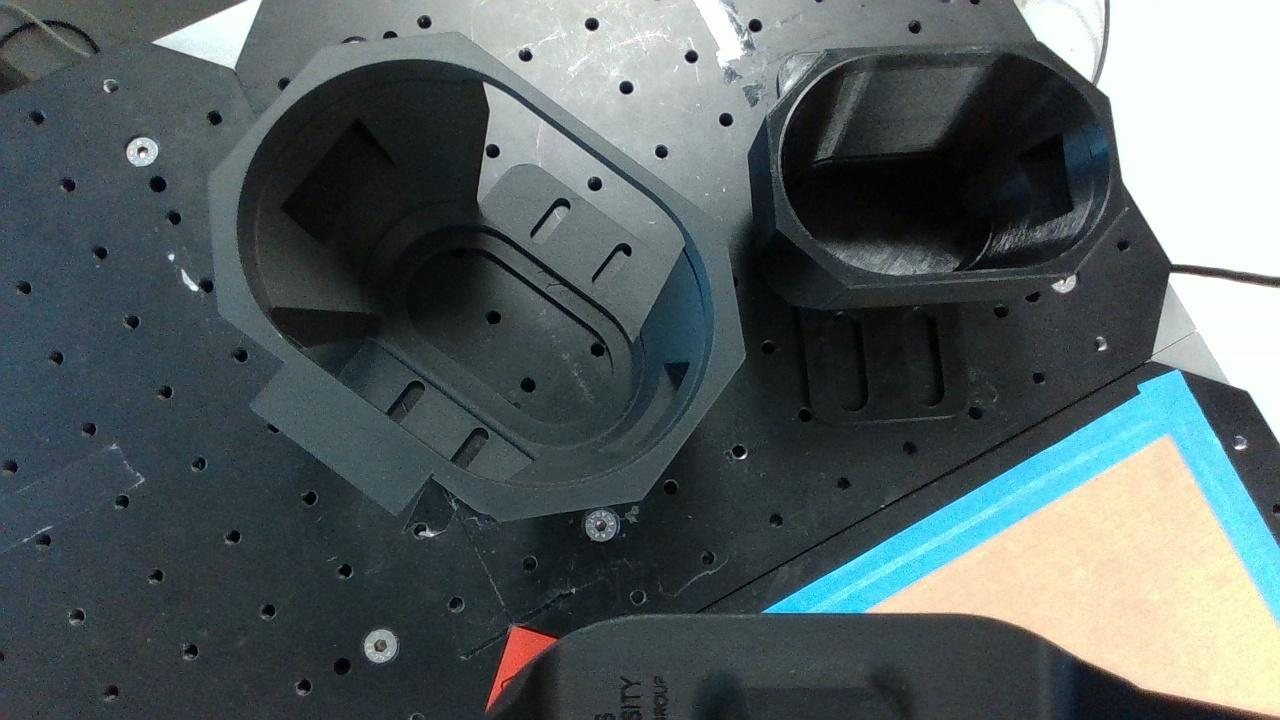big_interface: (208, 33, 747, 523)
small_interface: (766, 39, 1129, 289)
